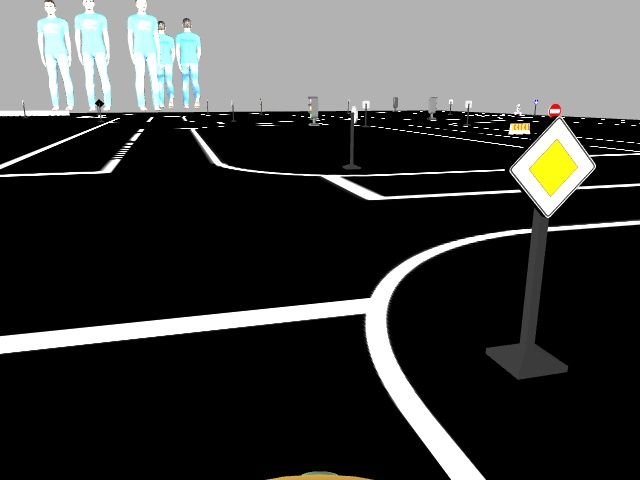Priority: (511, 116, 594, 217)
